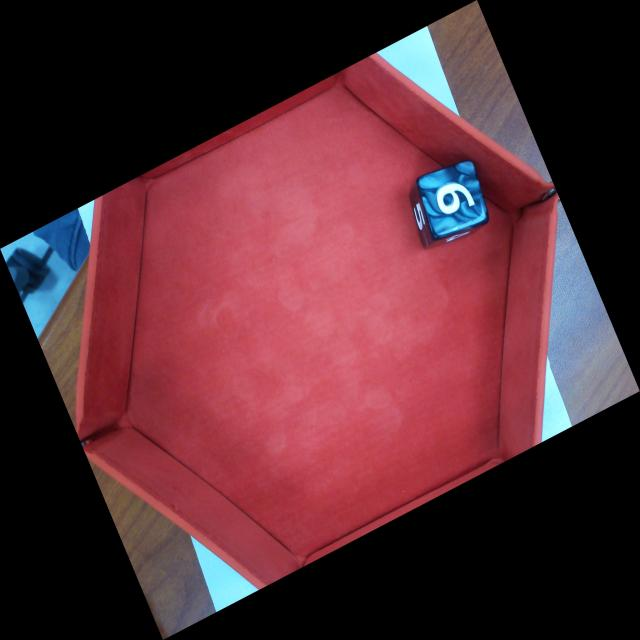dice: (424, 161, 490, 238)
